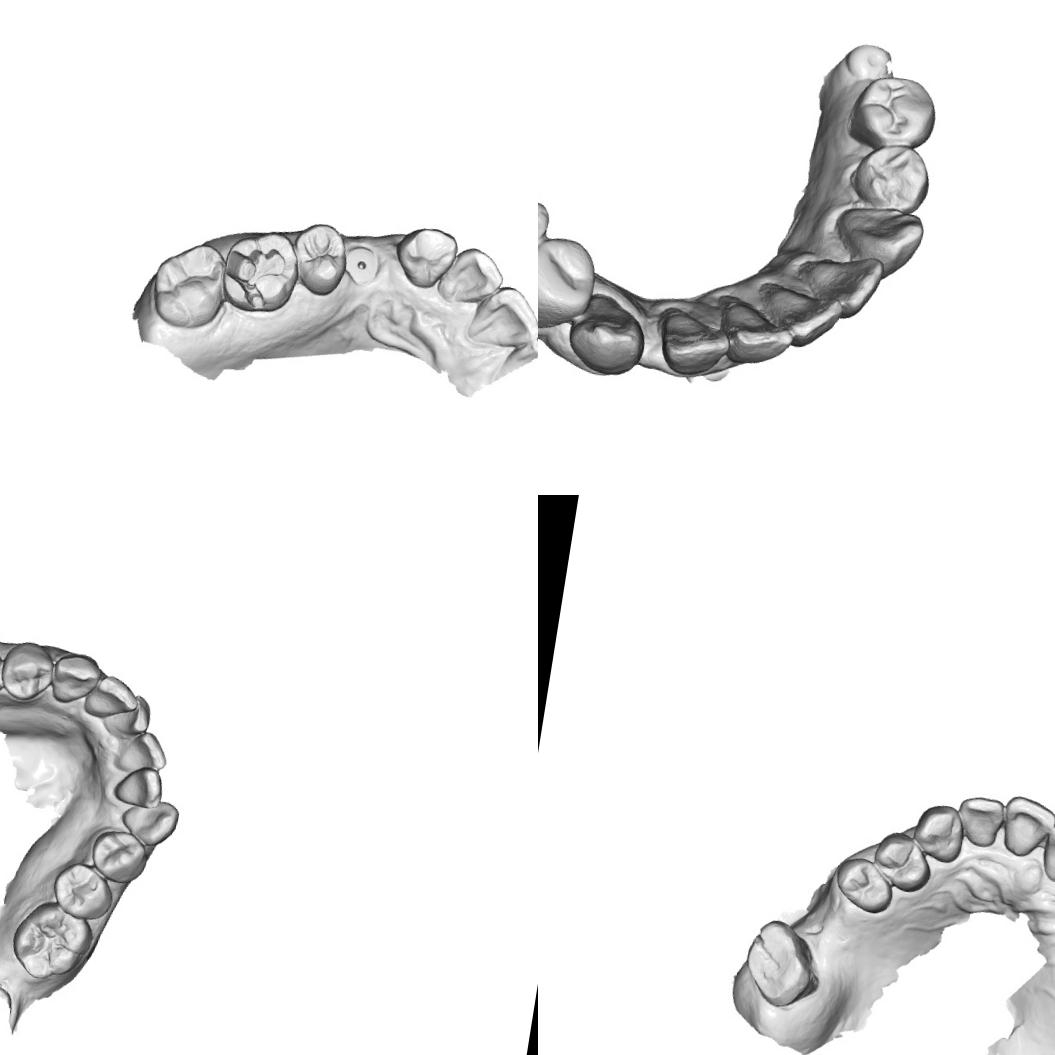canine: (563, 290, 652, 380), (830, 199, 924, 276), (389, 222, 461, 294), (908, 800, 968, 866), (117, 793, 181, 849), (48, 650, 103, 708)
implant: (842, 38, 895, 83), (339, 239, 385, 290)
incisor: (716, 296, 796, 372), (655, 307, 736, 382), (762, 282, 846, 352), (463, 279, 538, 355), (804, 246, 882, 318), (433, 242, 508, 311), (996, 792, 1055, 863), (954, 792, 1008, 852), (112, 762, 167, 810), (87, 672, 140, 721), (119, 728, 172, 774), (110, 691, 155, 744), (1037, 819, 1055, 889)
inlay: (218, 238, 290, 313)
molar: (736, 914, 826, 1014), (145, 236, 233, 334), (7, 894, 98, 986)
premolar: (848, 68, 941, 151), (848, 139, 932, 215), (538, 230, 599, 334), (286, 218, 353, 300), (867, 827, 937, 897), (828, 853, 898, 917), (48, 860, 117, 924), (0, 638, 59, 705), (87, 826, 151, 886), (538, 175, 557, 268)
